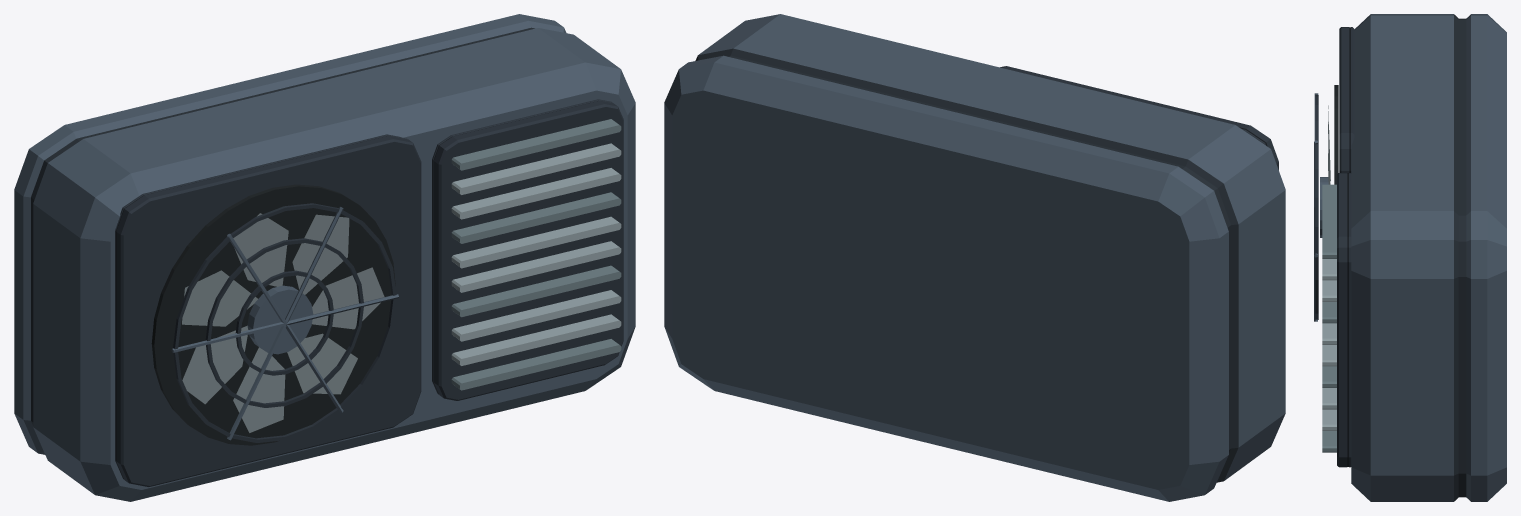
The model's file is B-01_cryo_chiller.glb.
3 renders of one model, left to right at view 1: azimuth 30°, elevation 25°; view 2: azimuth 150°, elevation 25°; view 3: azimuth 270°, elevation 25°, orthographic. The views are drawn at different scales.
Visible parts, largest first — view 1: B-01_cryo_chiller; view 2: B-01_cryo_chiller; view 3: B-01_cryo_chiller.
Part boxes in pixels (bbox=[...]): B-01_cryo_chiller: bbox=[14, 14, 635, 501]; B-01_cryo_chiller: bbox=[664, 14, 1285, 501]; B-01_cryo_chiller: bbox=[1314, 14, 1506, 501].
Bounding box in the file's own units: 1.38 × 0.78 × 0.471.
